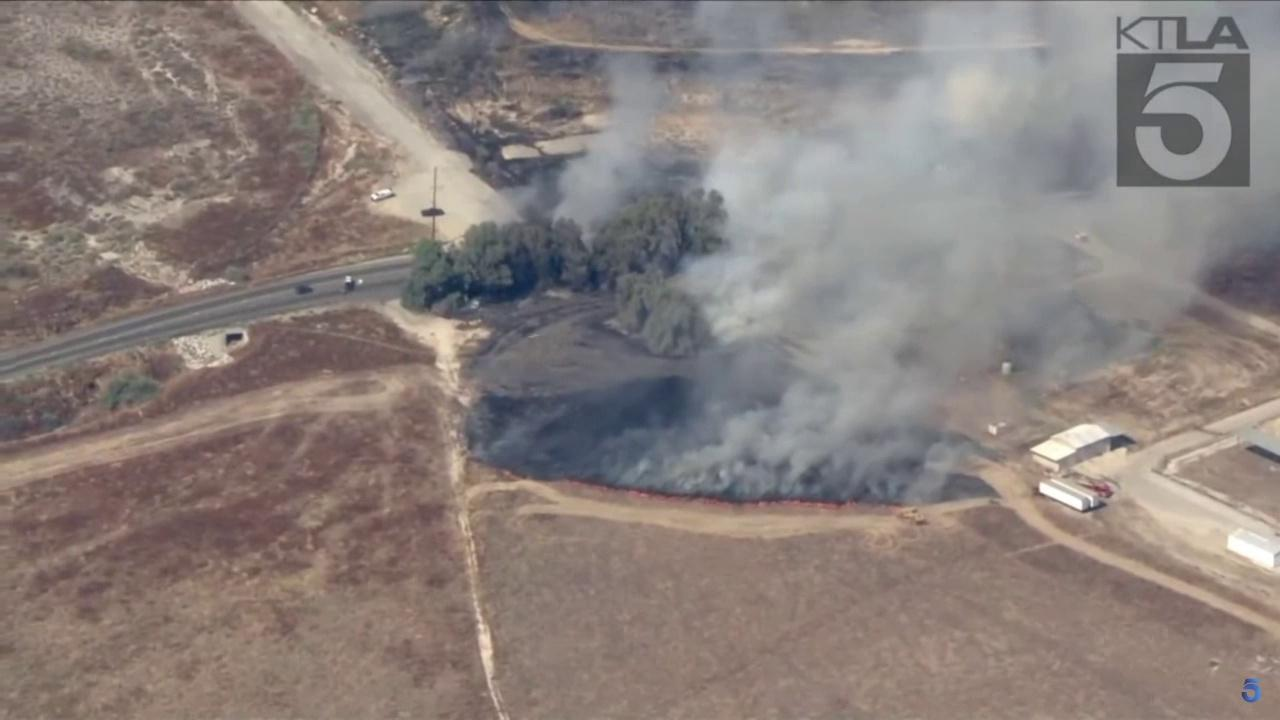fire: (563, 479, 859, 511)
smoke: (477, 3, 1280, 508)
